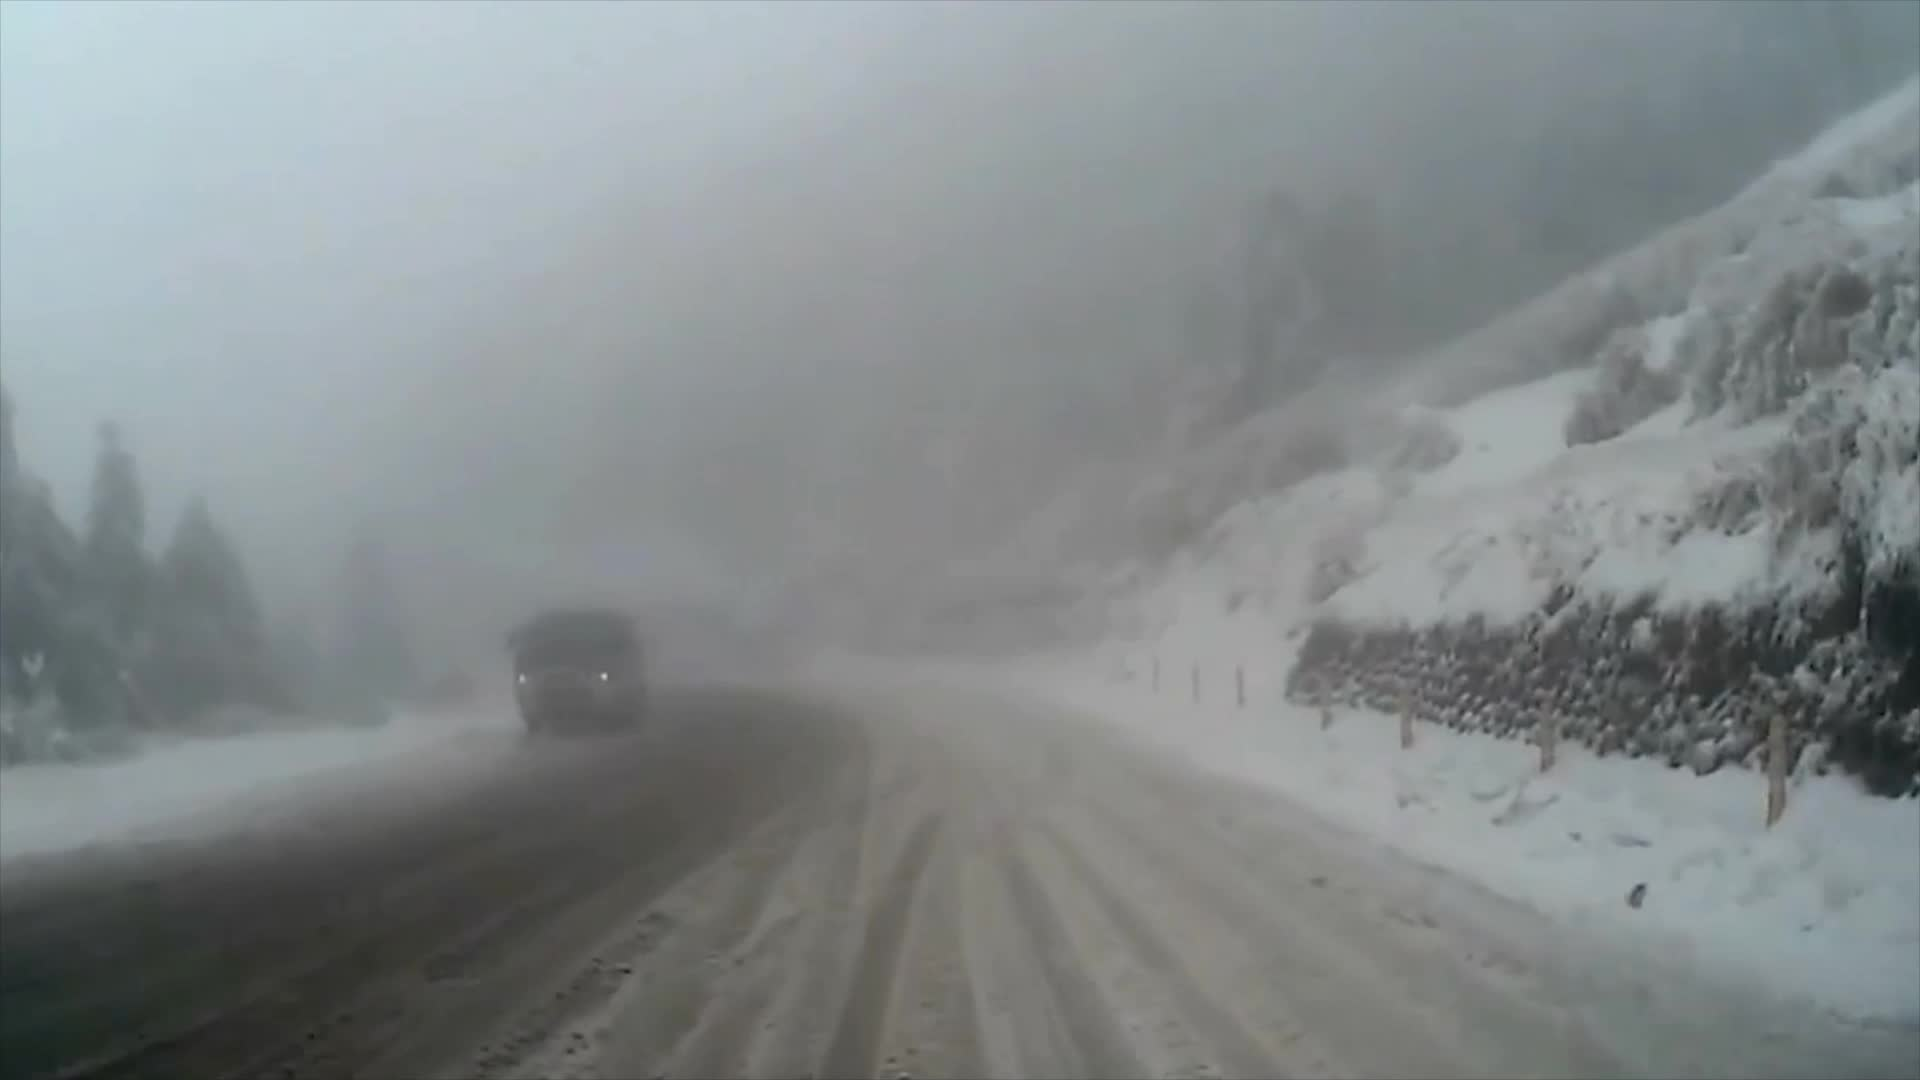vehicle: (509, 607, 650, 735)
